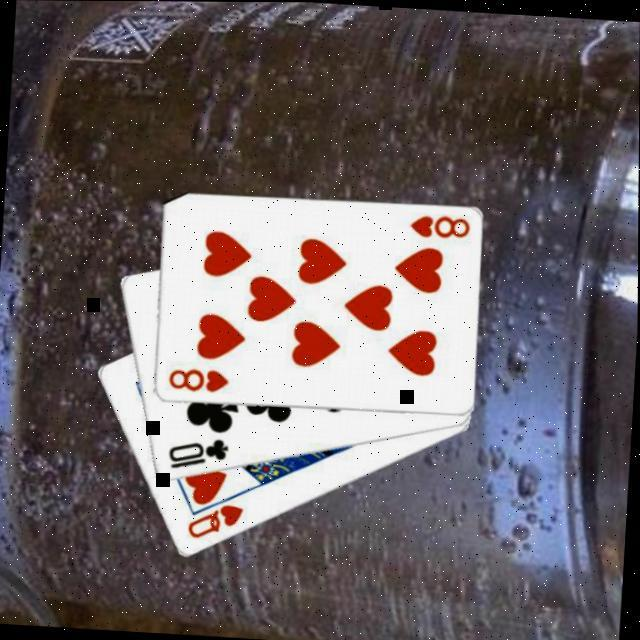10C: (166, 431, 234, 472)
8H: (167, 362, 234, 395), (410, 210, 475, 241)
QH: (185, 497, 249, 543)
